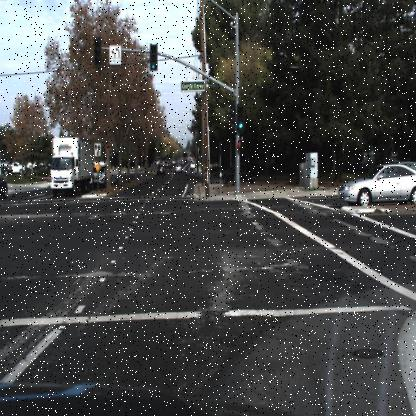car: (338, 157, 415, 202), (223, 164, 258, 184), (8, 156, 27, 177)
trafficLight-Green: (236, 102, 246, 135), (148, 40, 158, 72), (150, 42, 158, 76)
truck: (49, 134, 96, 199)
